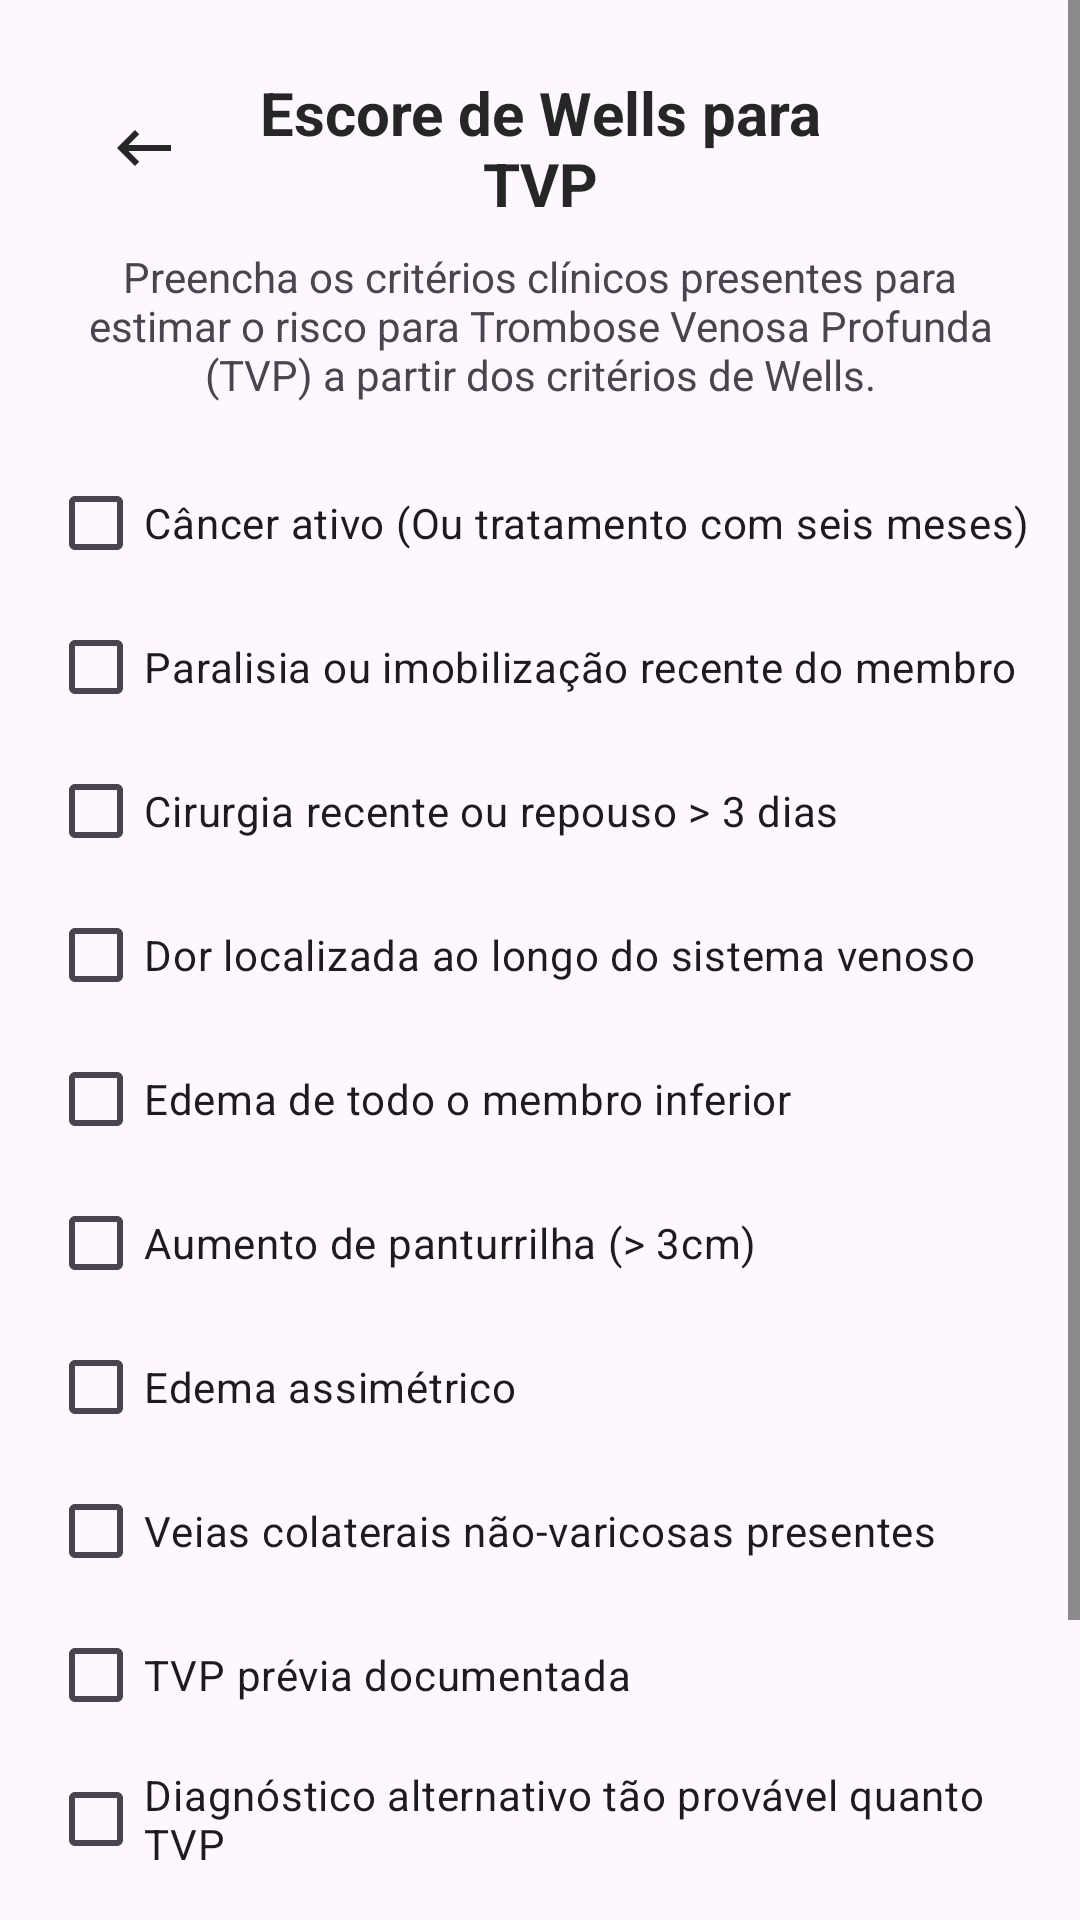

Icon bounding boxes for this 1080×1920 phone screenshot, format box=[x1, y1, x2, y2]:
Voltar: box=[117, 130, 171, 166]
